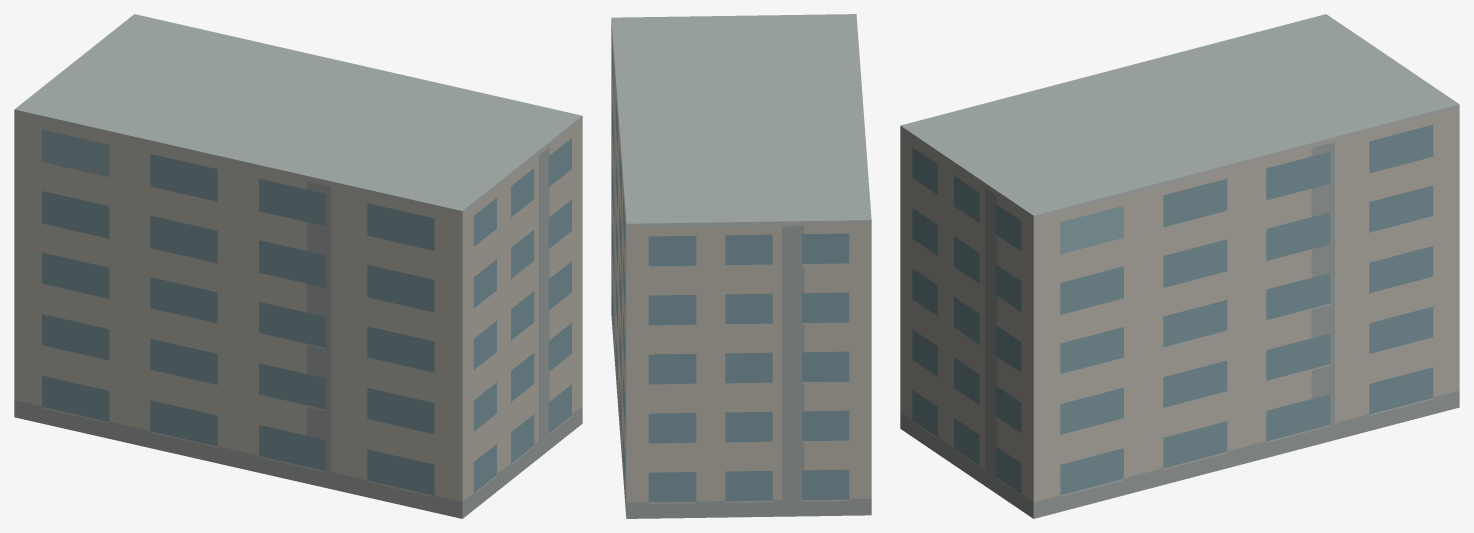
The model's file is survey-upis-32770034.glb.
The picture shows the model from 3 angles, left to right: view 1: azimuth 30°, elevation 25°; view 2: azimuth 150°, elevation 25°; view 3: azimuth 270°, elevation 25°; orthographic projection. The views are drawn at different scales.
Parts seen in each view (by area): view 1: survey-upis-32770034.tmp; view 2: survey-upis-32770034.tmp; view 3: survey-upis-32770034.tmp.
Part boxes in pixels (left/top/right/bottom): survey-upis-32770034.tmp: left=14, top=14, right=582, bottom=518; survey-upis-32770034.tmp: left=611, top=14, right=871, bottom=518; survey-upis-32770034.tmp: left=900, top=14, right=1459, bottom=518.
Size of the model in its own units: 20.97 by 14.68 by 24.56.
